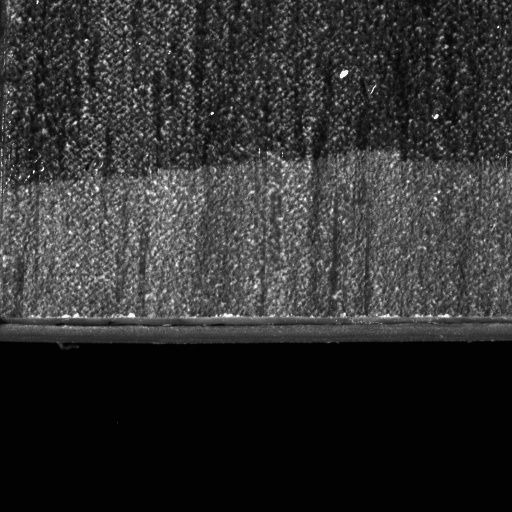kaijiao: (0, 312, 352, 348)
